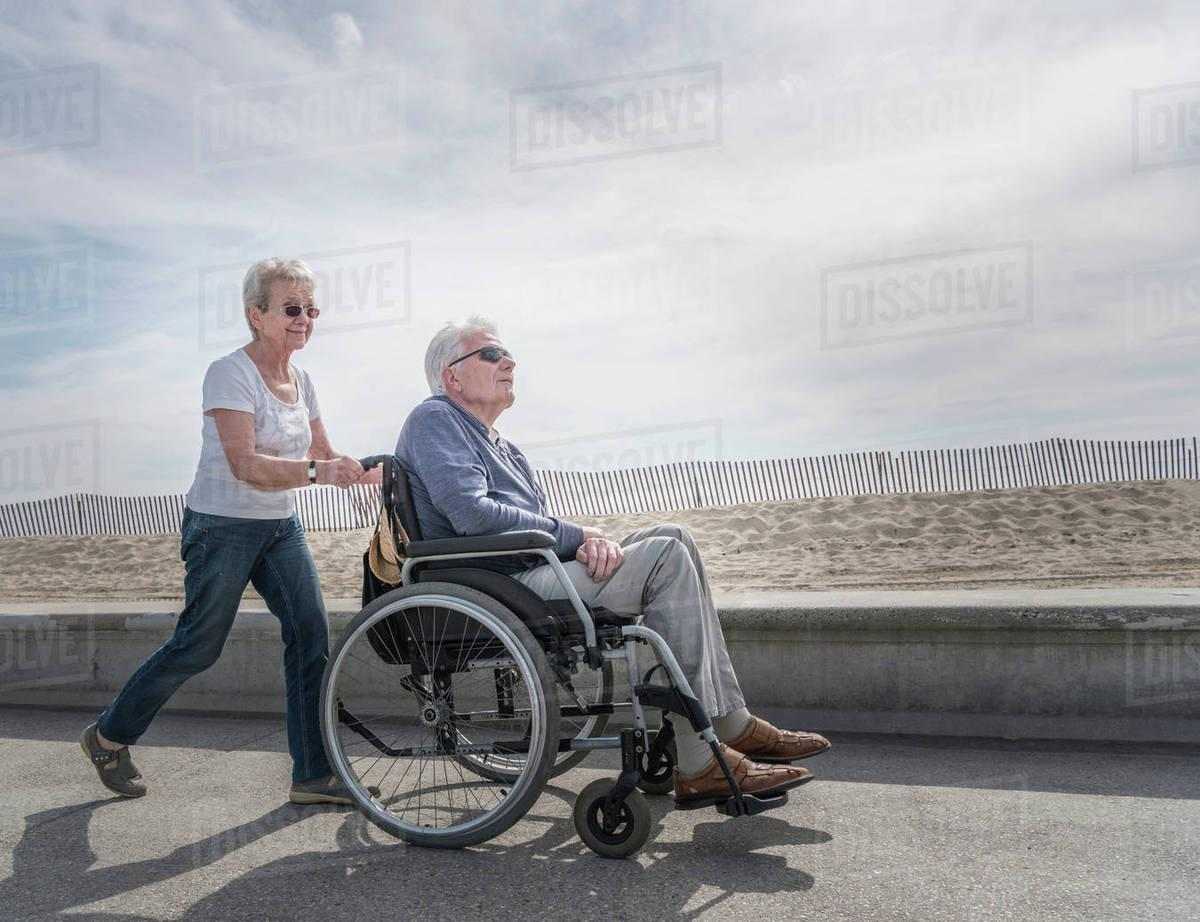push_wheelchair: (79, 259, 380, 804)
wheelchair: (319, 311, 831, 859)
